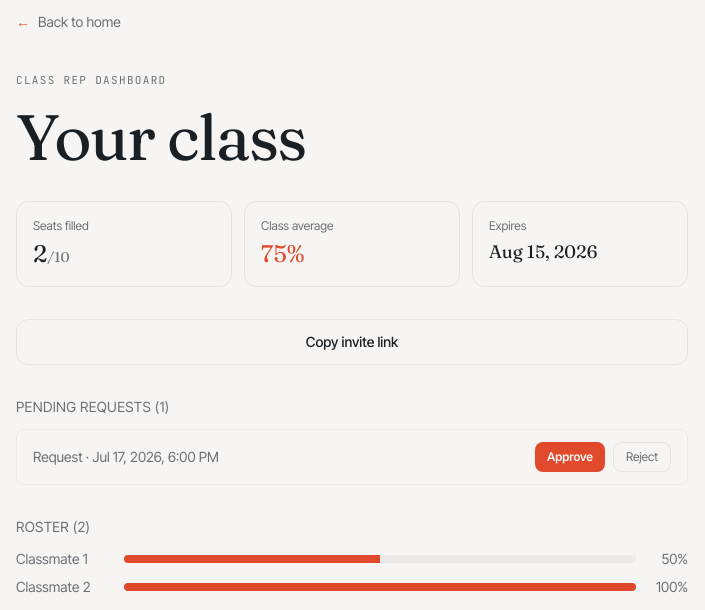
it: RepDashboard › approves a pending request: posts decision then reloads data
Check: the text "Pending requests (1)" is shown, box [16, 396, 170, 416]
Click the button "Approve" at (570, 456), box [535, 442, 605, 472]
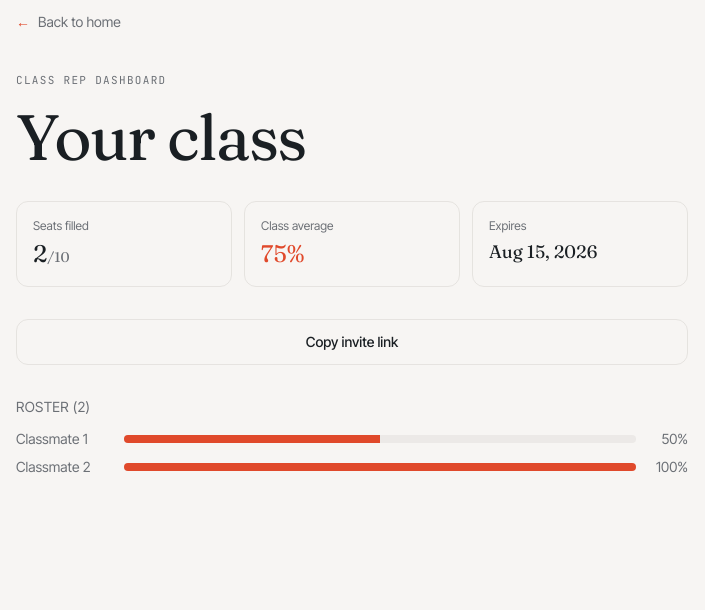
Check: the text "Pending requests" is gone
